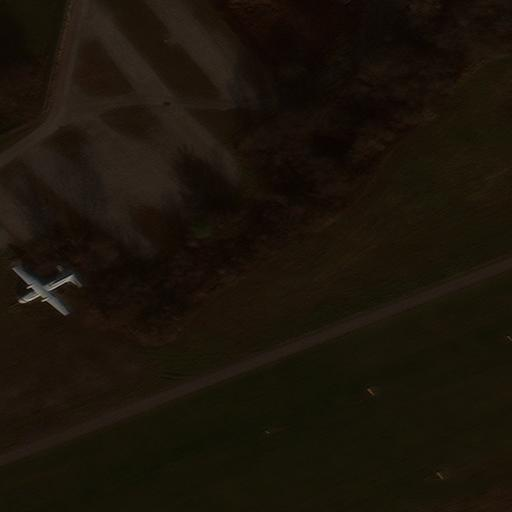Medium Civil Transport: (12, 270, 73, 317)
